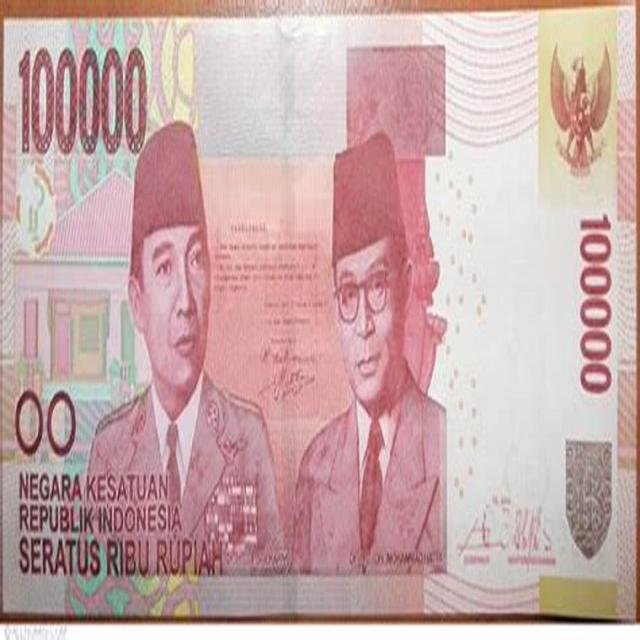seratus ribu rupiah: (2, 14, 636, 616)
